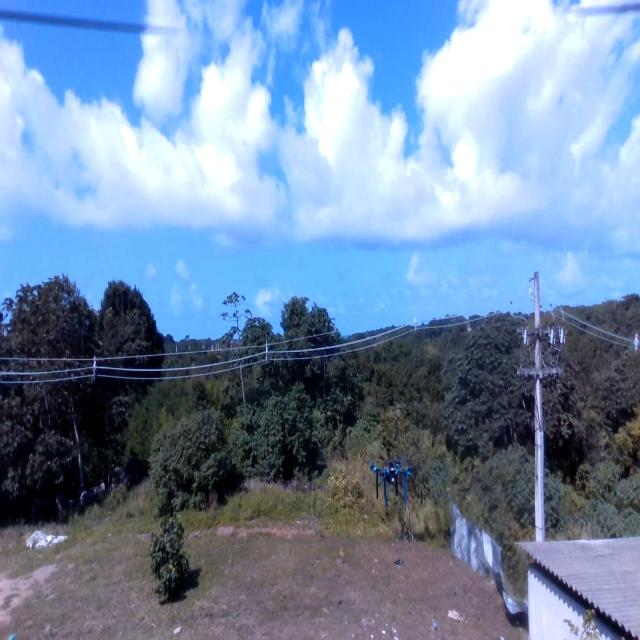-uav-: (365, 456, 424, 535)
